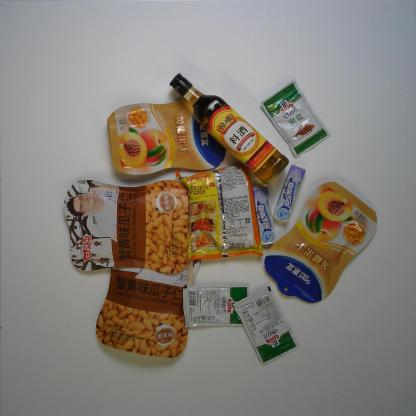Candy: (272, 164, 306, 224), (250, 182, 276, 246)
Dried Fruit: (264, 179, 377, 304), (61, 176, 195, 272), (95, 256, 202, 362), (107, 99, 226, 176)
Instant Noodles: (177, 167, 263, 260)
Seasoner: (170, 72, 289, 185), (261, 79, 330, 156), (232, 285, 296, 366), (181, 283, 251, 330)
